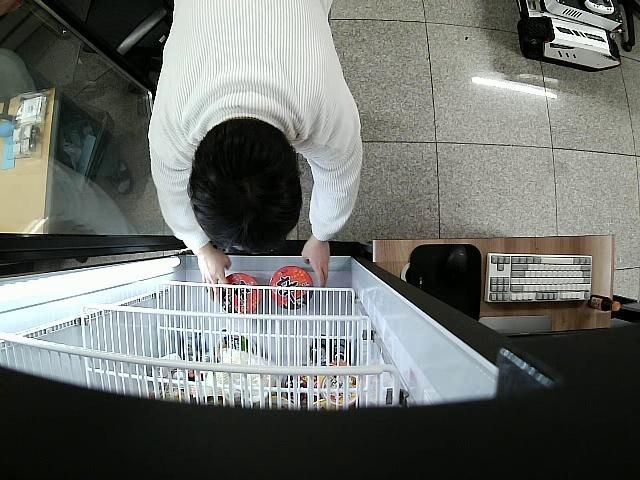01_ShinRamen_L: (270, 266, 315, 310), (217, 273, 262, 314)
